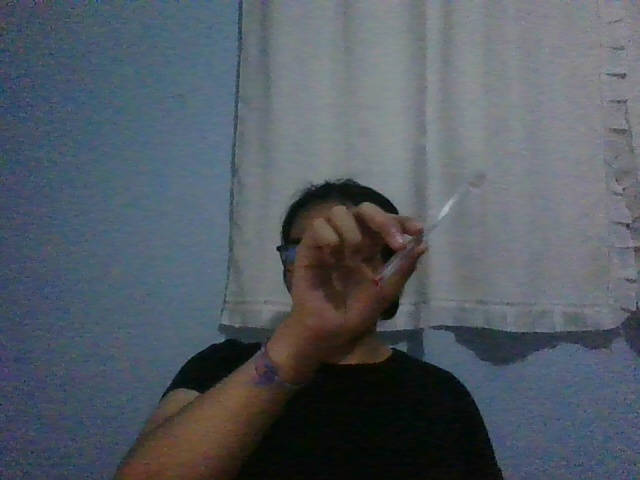pluma: (370, 169, 489, 287)
